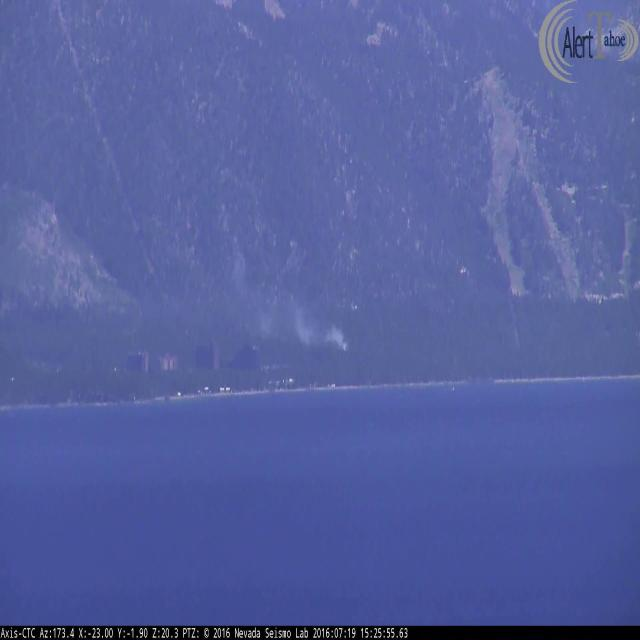smoke: (251, 297, 351, 354)
